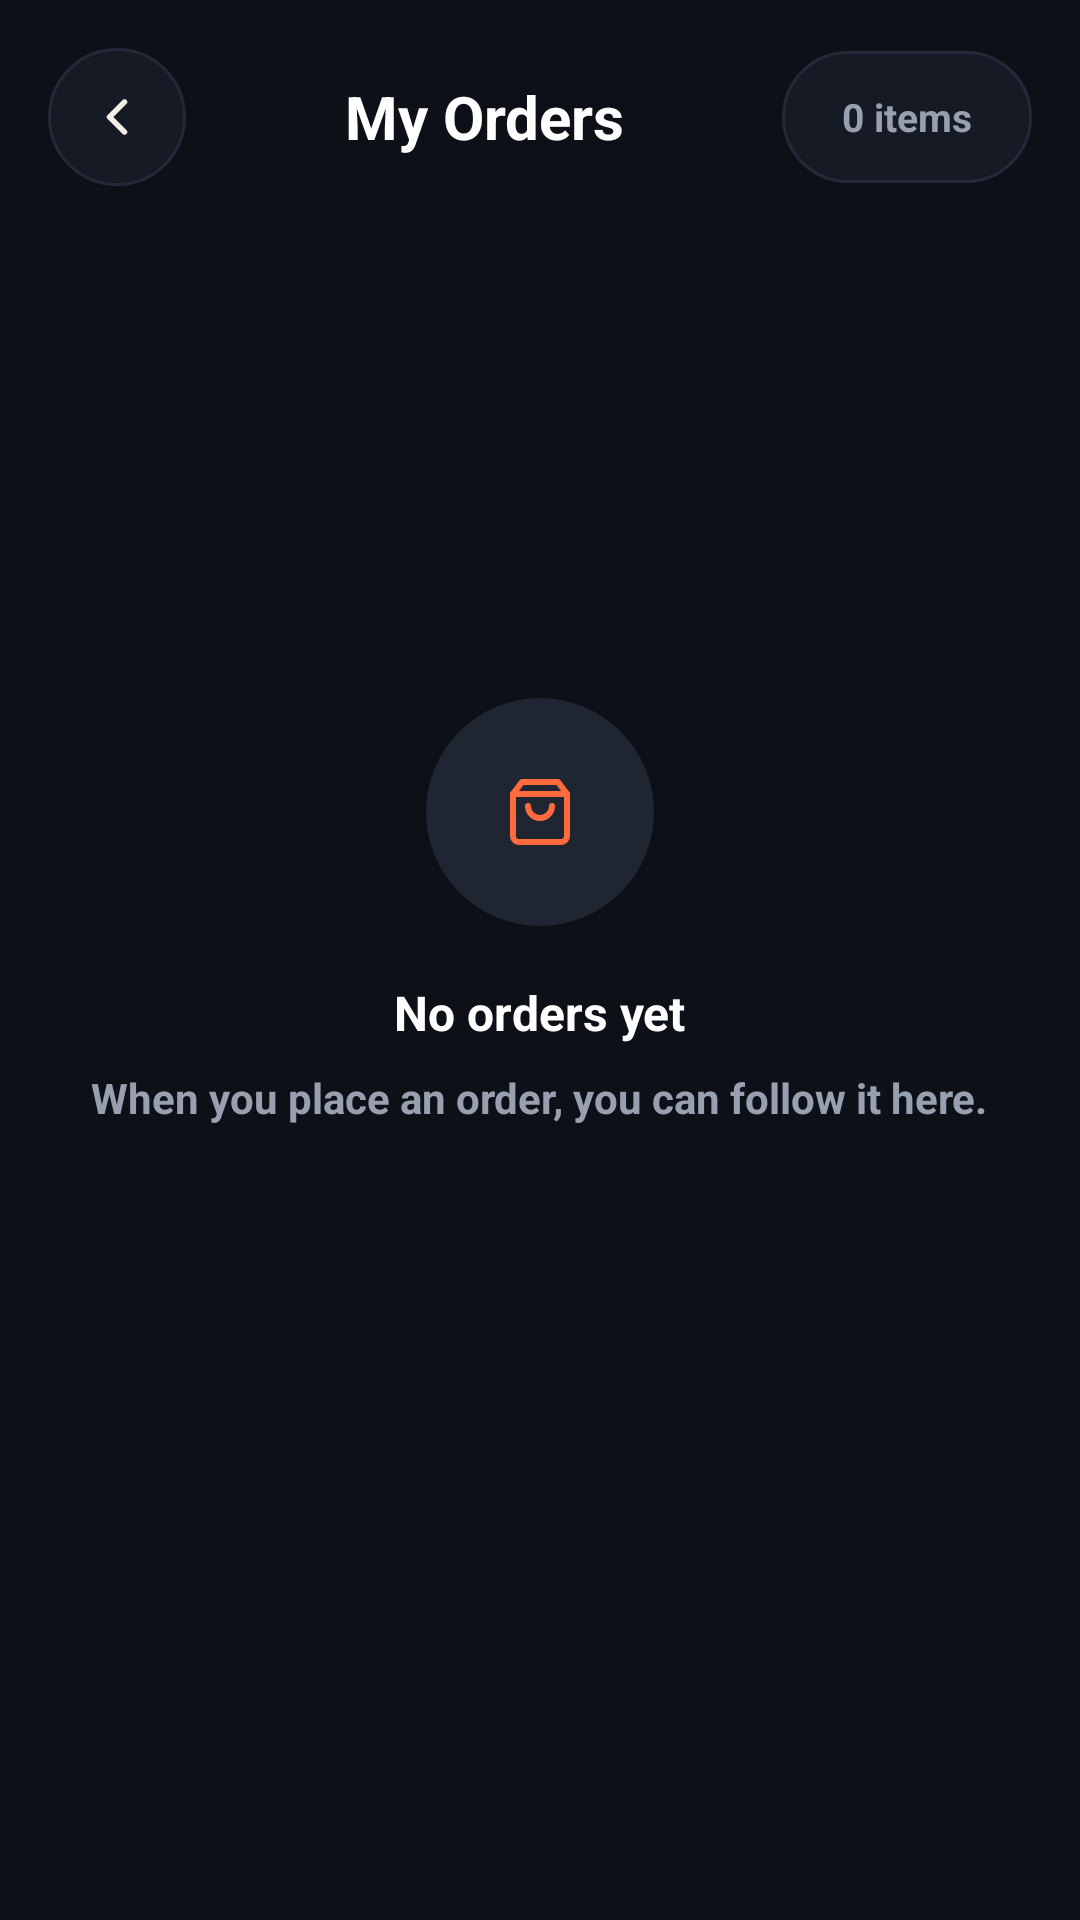

Named icons in this screenshot (1080*1920) and their bounding boxes, (x1, y1, x2, y2):
Back: (48, 48, 186, 186)
bag: (427, 698, 653, 926)
